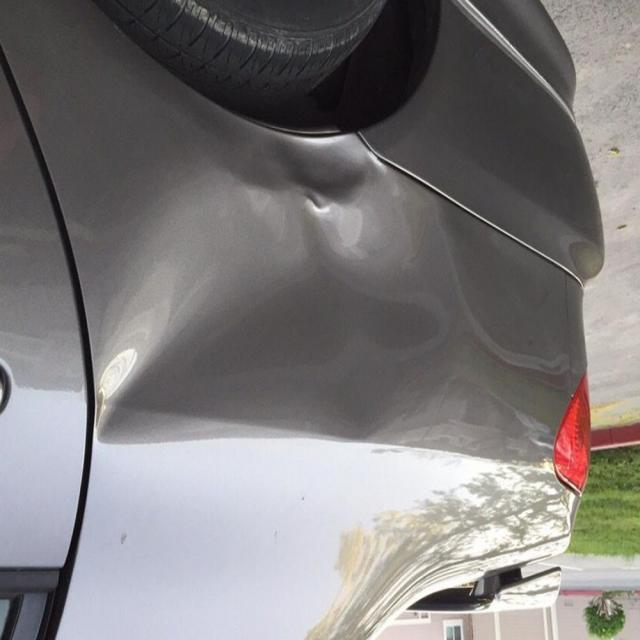dent: (95, 120, 412, 483)
